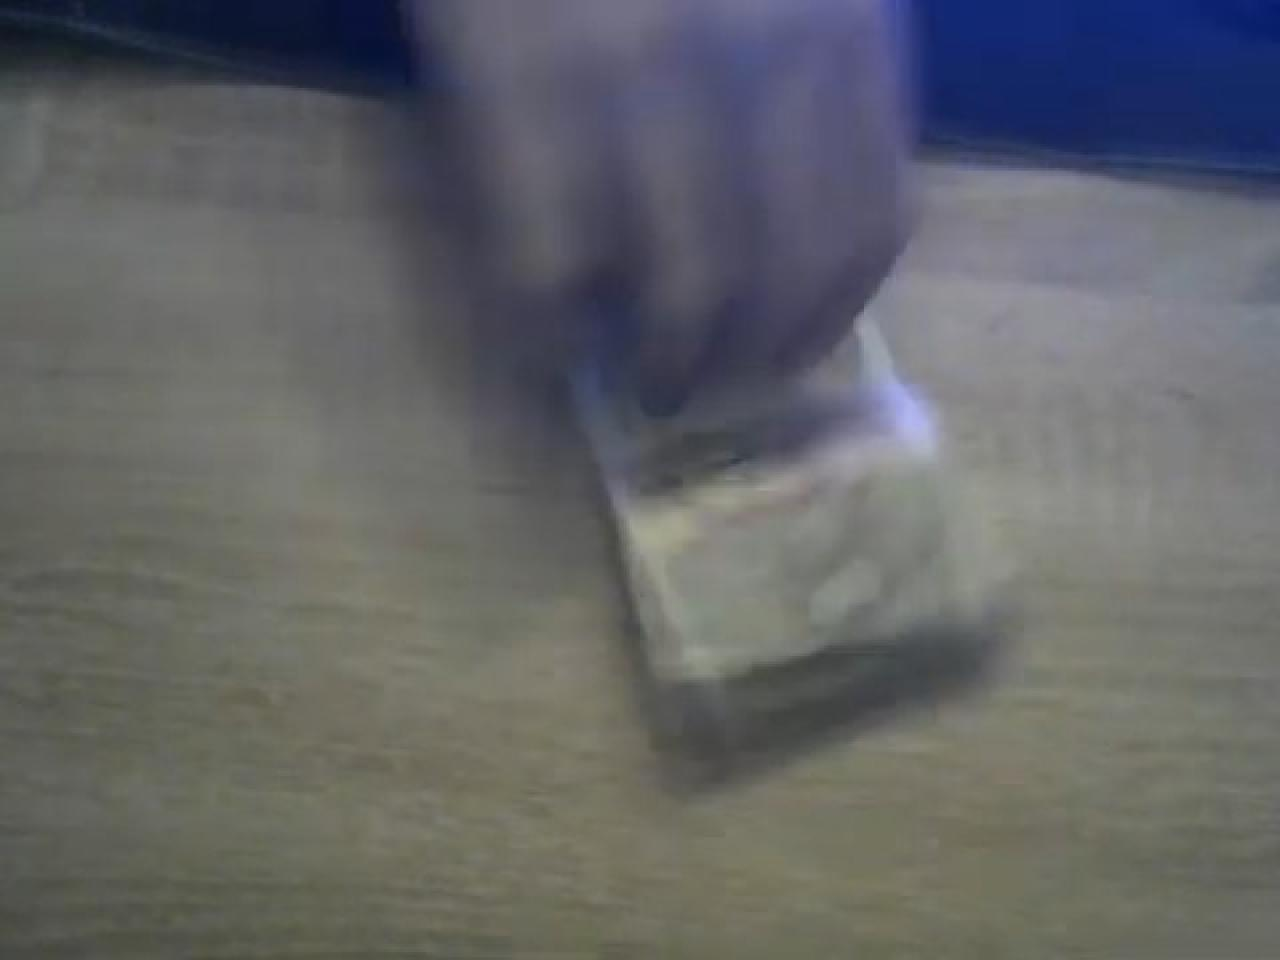10leva: (562, 326, 1021, 803)
